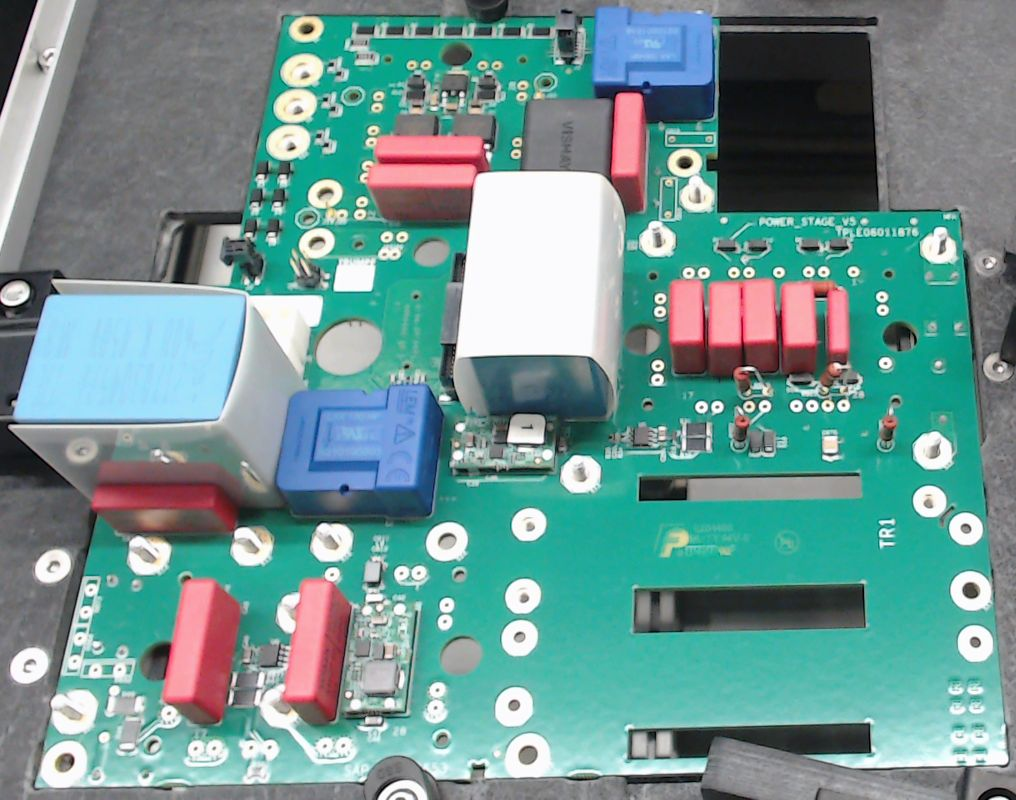comp1: (277, 384, 444, 518), (591, 8, 714, 118)
comp2: (163, 579, 239, 726), (285, 580, 351, 727), (91, 487, 236, 532), (367, 163, 477, 221), (612, 92, 645, 211), (741, 277, 777, 380), (707, 277, 743, 378), (670, 279, 704, 379), (780, 279, 815, 375), (372, 134, 486, 161), (825, 289, 850, 366)
comp3: (522, 96, 615, 174)
comp4: (8, 277, 307, 507), (453, 171, 625, 420)
